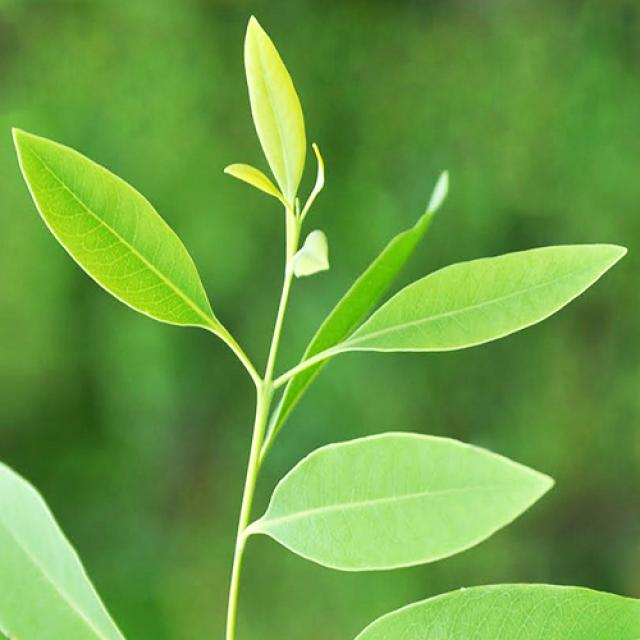Sandalwood: (54, 13, 640, 640)
